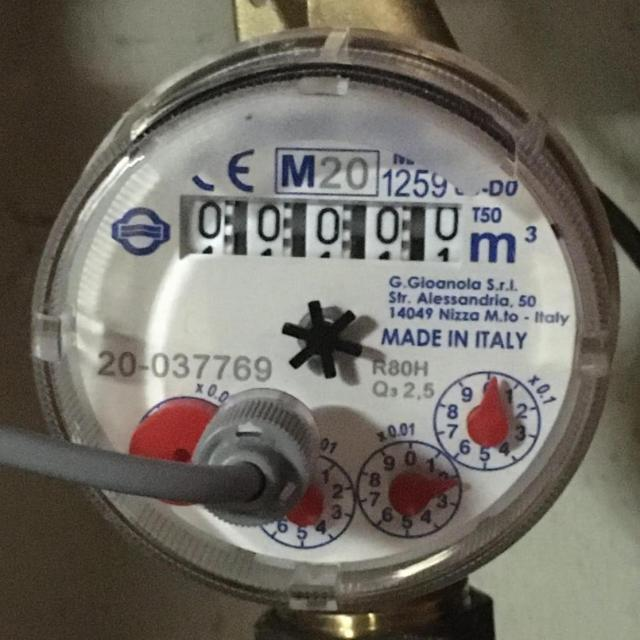gaz_meter: (44, 76, 581, 572)
indication: (181, 194, 460, 260)
